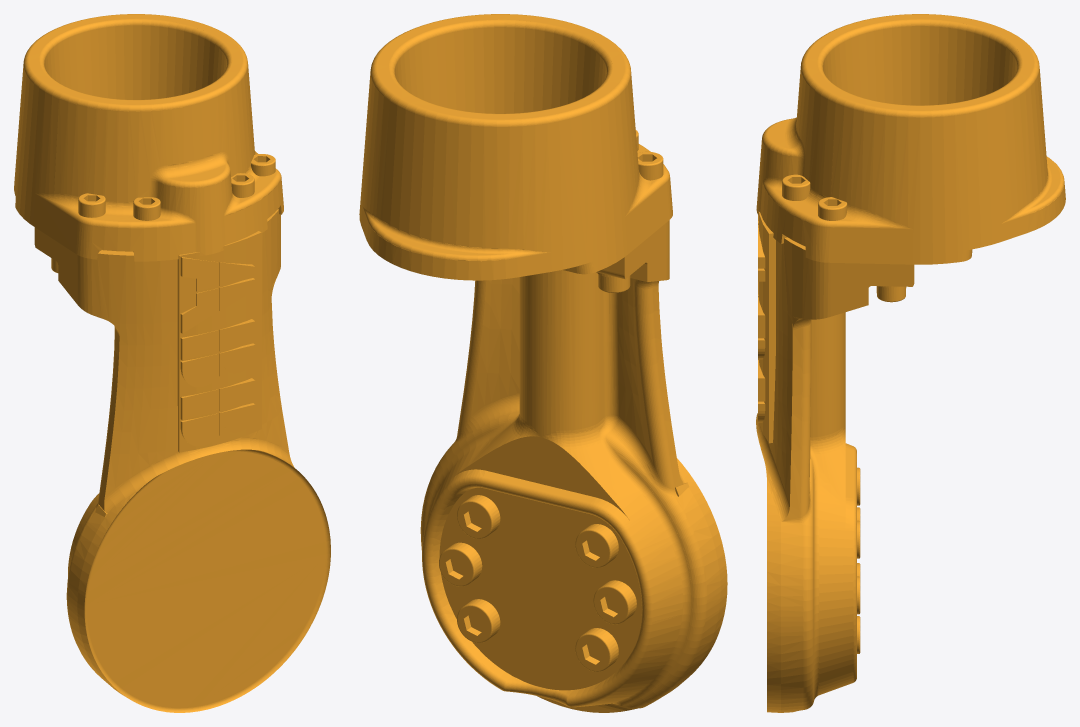
File: ABBIRB1520IDLink5.dae
3 renders of one model, left to right at view 1: azimuth 30°, elevation 25°; view 2: azimuth 150°, elevation 25°; view 3: azimuth 270°, elevation 25°, orthographic. The views are drawn at different scales.
Visible parts, largest first — view 1: IRB1520IDLink5; view 2: IRB1520IDLink5; view 3: IRB1520IDLink5.
Boxes of the visible parts, x1,y1,x2,y2 form: IRB1520IDLink5: (14,14,330,712); IRB1520IDLink5: (359,14,727,712); IRB1520IDLink5: (756,14,1065,712).
Size of the model in its own units: 0.106 by 0.108 by 0.2445.
